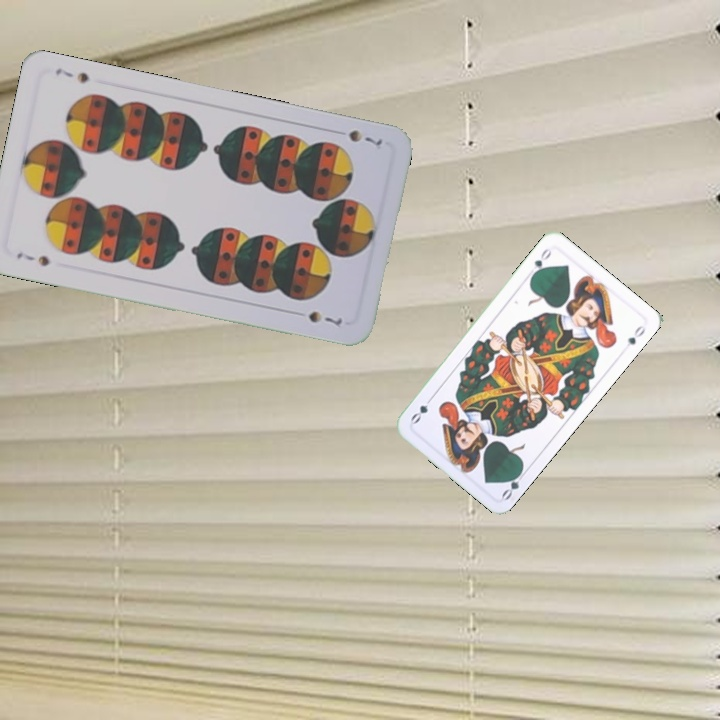GO: (497, 465, 529, 503), (527, 244, 554, 280)
S7: (344, 125, 385, 152), (12, 248, 52, 269)
